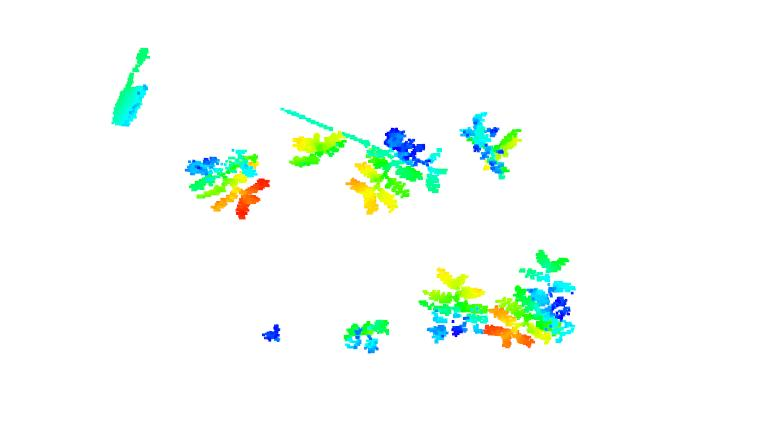chickpea: (348, 125, 451, 218), (484, 249, 578, 350), (185, 147, 271, 221), (423, 264, 490, 343), (460, 112, 523, 179), (289, 127, 350, 174), (343, 318, 394, 355)
